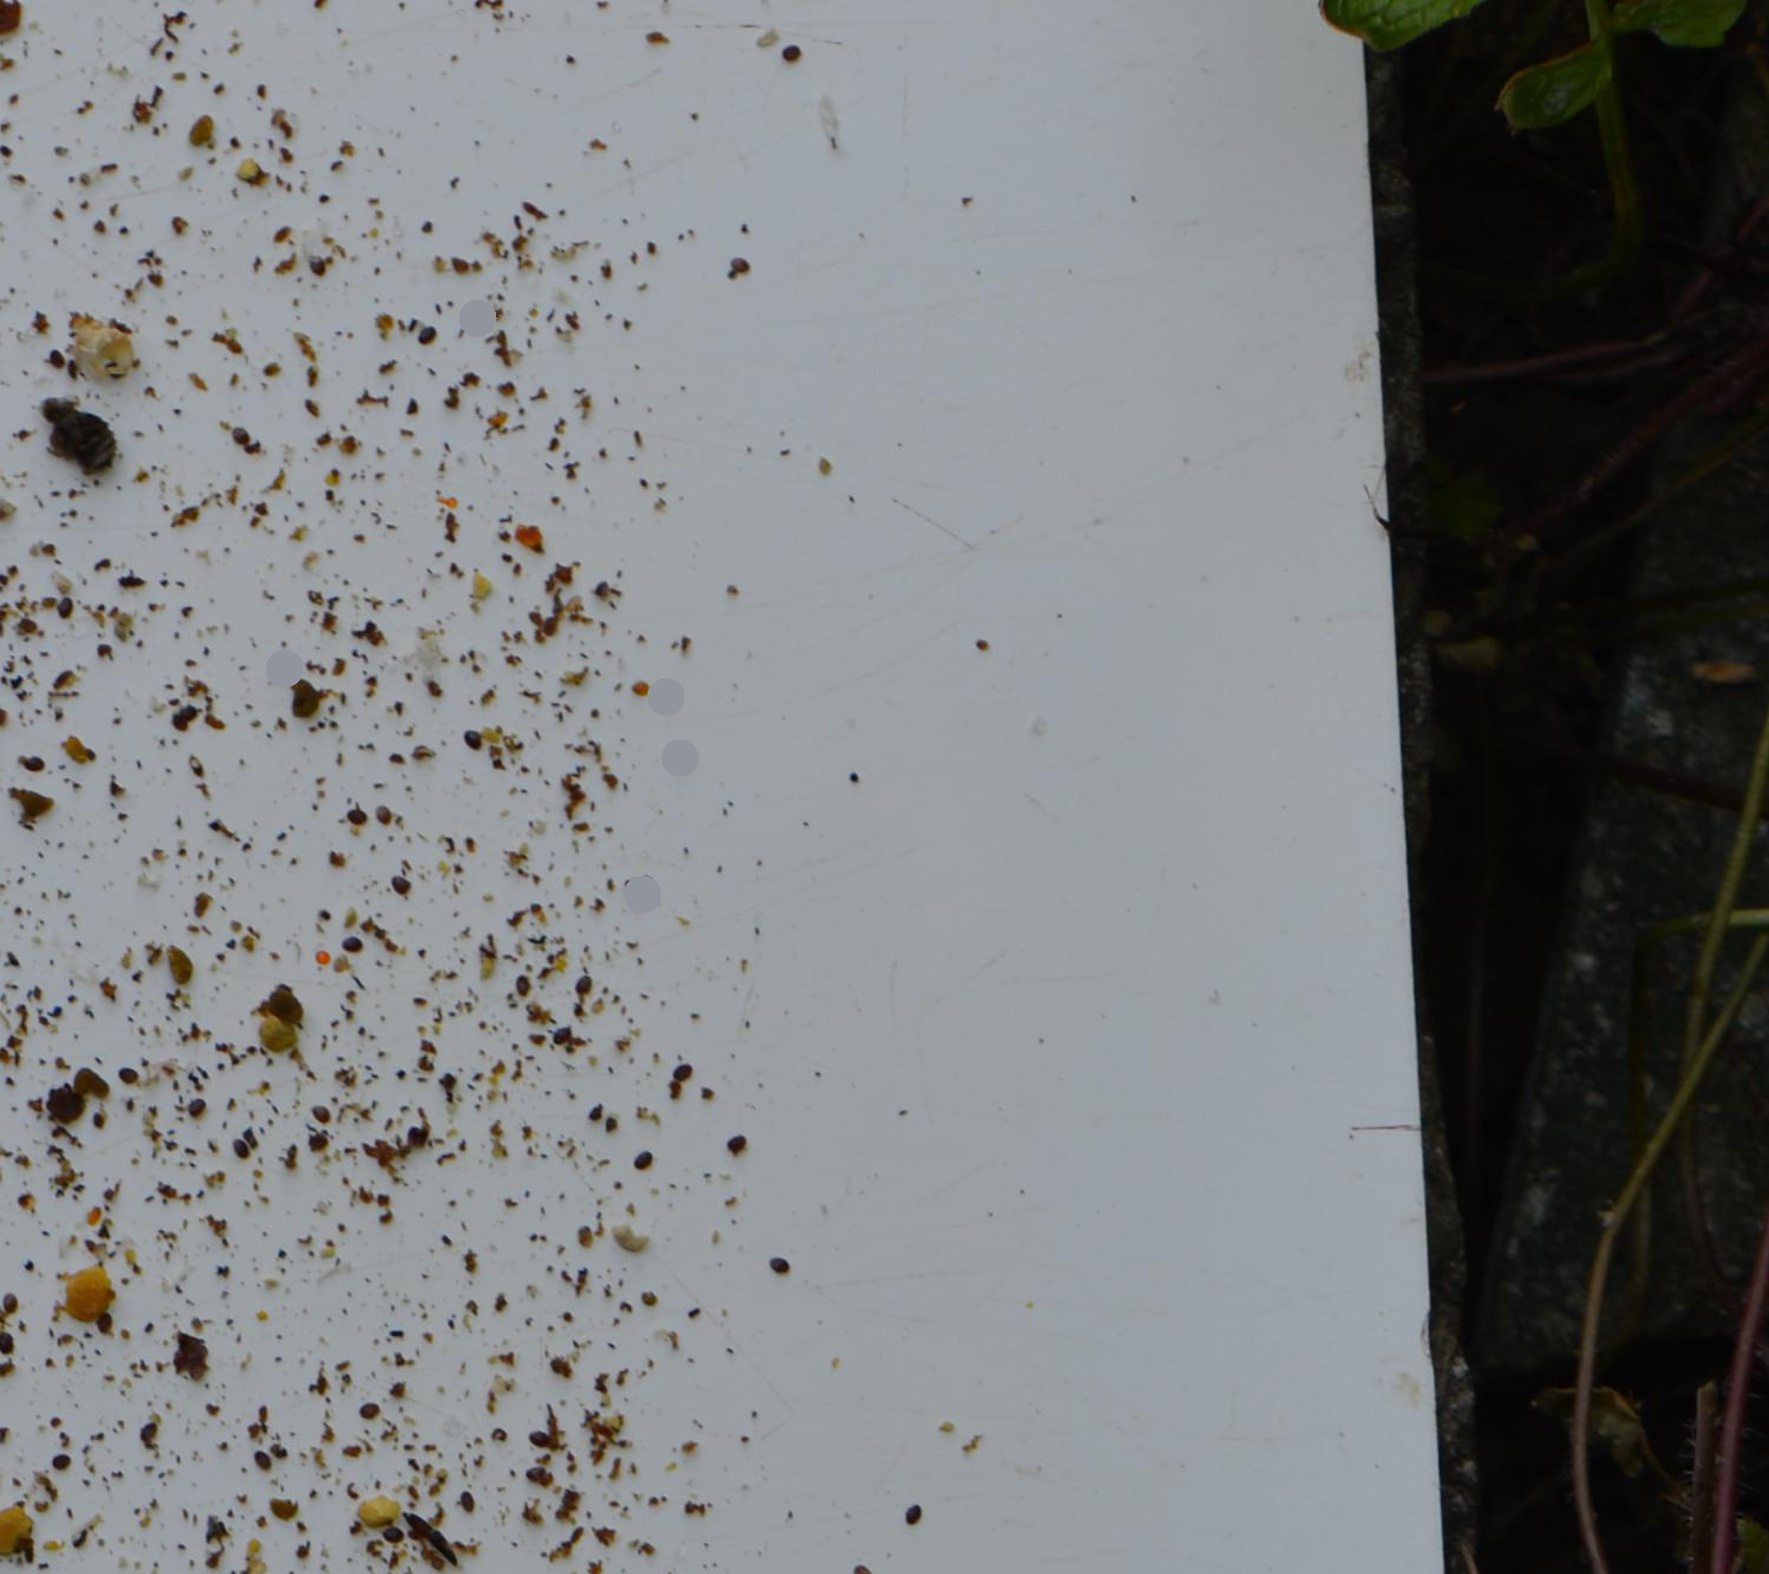Varroa: (295, 243, 336, 284), (570, 969, 596, 1004), (378, 1524, 407, 1553), (906, 1503, 935, 1531), (415, 324, 441, 352), (233, 1135, 258, 1164), (511, 974, 536, 1003), (453, 1487, 479, 1515), (778, 40, 804, 67), (169, 708, 195, 735), (726, 254, 751, 283), (21, 755, 47, 781), (527, 1462, 553, 1487), (629, 1143, 653, 1170), (359, 1401, 383, 1427), (119, 1065, 143, 1091), (389, 874, 413, 899), (182, 1097, 208, 1121), (672, 1065, 696, 1091), (50, 596, 74, 621), (530, 1427, 555, 1452), (347, 804, 371, 830), (236, 422, 258, 450), (375, 808, 398, 836), (47, 351, 71, 375), (549, 1026, 573, 1050), (49, 1452, 71, 1478), (729, 1135, 752, 1161), (254, 1446, 277, 1472), (464, 728, 488, 751), (767, 1255, 790, 1279), (343, 943, 366, 968), (309, 1108, 331, 1132), (310, 1127, 333, 1152), (135, 1425, 158, 1449), (403, 1123, 426, 1147)
